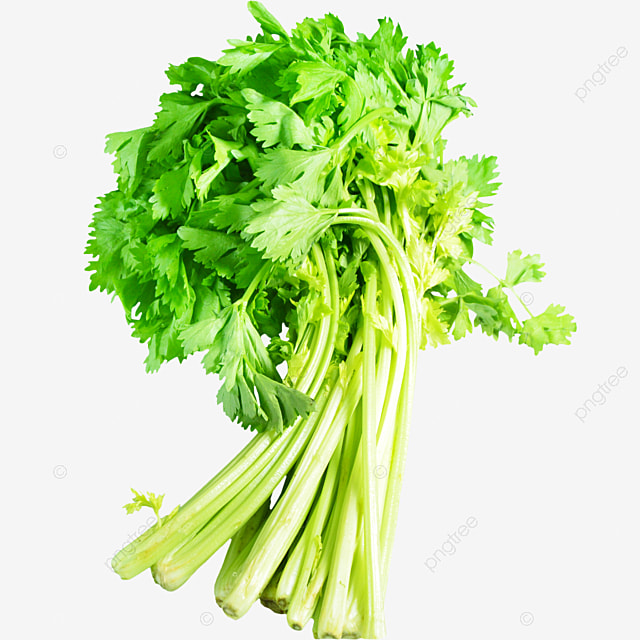Seledri: (110, 39, 539, 638)
